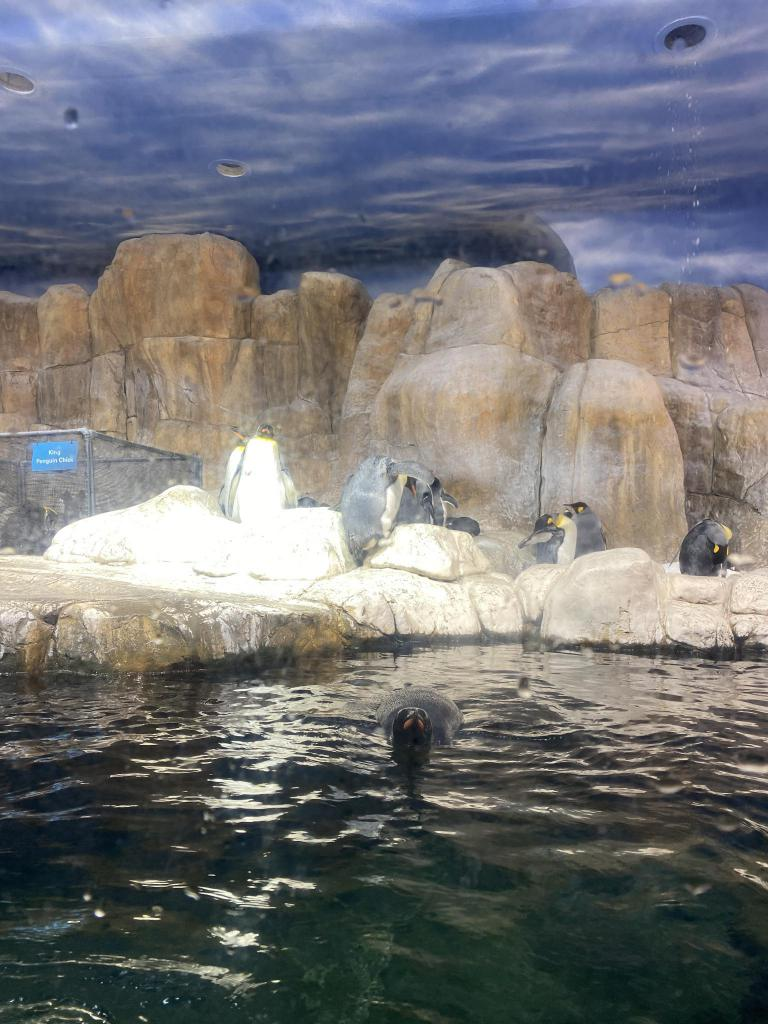penguin: (328, 456, 434, 568), (228, 424, 298, 522), (378, 684, 464, 756), (666, 519, 732, 579), (218, 426, 252, 524), (516, 514, 576, 566), (564, 502, 608, 560)
